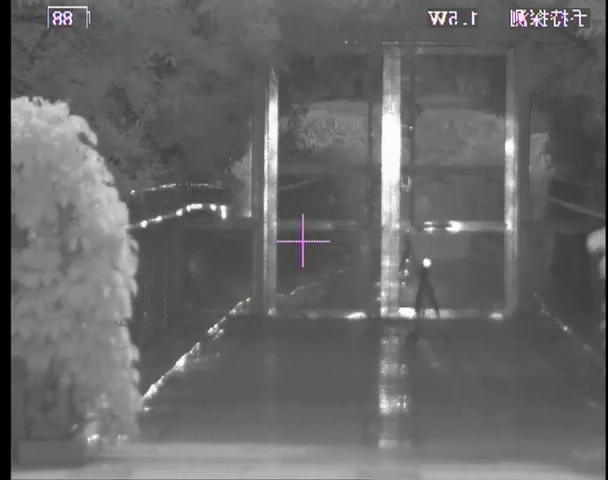my: (421, 257, 433, 268)
